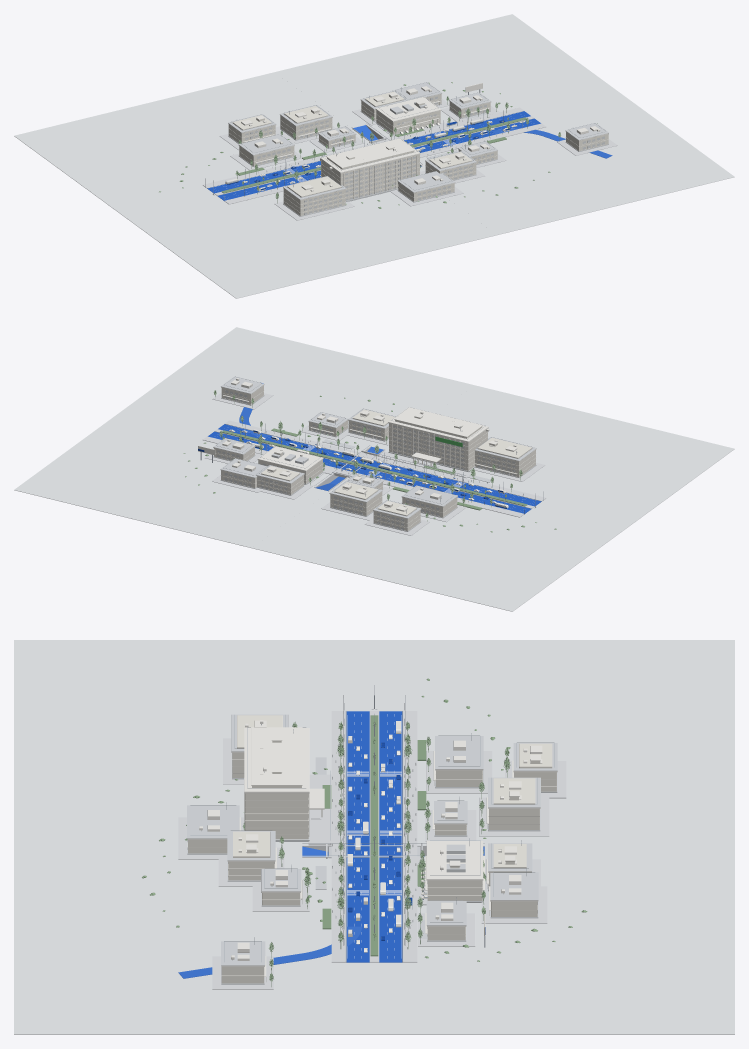
Rendered from awolowo_lowpoly_env.glb.
3 renders of one model, top to bottom at view 1: azimuth 30°, elevation 25°; view 2: azimuth 150°, elevation 25°; view 3: azimuth 270°, elevation 25°, orthographic. The views are drawn at different scales.
Visible parts, largest first — view 1: Ground_East, Ground_West, BOI_Mass, Pavement_South, Road_Carriageway_North, Road_Carriageway_South, BOI_Upper_Coping, Ground_South, Pavement_North, Sec_NE_K_Mass, Ground_North, NS_Parapet (+8 smaller); view 2: Ground_East, Ground_West, BOI_Mass, Road_Carriageway_North, Pavement_North, Road_Carriageway_South, Ground_South, BOI_Upper_Coping, Road_Median_Planting, Sec_NE_K_Mass, Pavement_South, NS_Parapet (+6 smaller); view 3: Ground_East, Ground_West, Road_Carriageway_South, Road_Carriageway_North, Pavement_South, Pavement_North, BOI_Upper_Coping, BOI_Mass, Ground_South, Ground_North, Road_Median_Planting, NS_Parapet (+27 smaller).
Part boxes in pixels (<box>): Ground_East: <box>14,72,496,298</box>; Ground_West: <box>289,14,734,231</box>; BOI_Mass: <box>321,154,419,199</box>; Pavement_South: <box>203,107,523,188</box>; Road_Carriageway_North: <box>217,118,540,200</box>; Road_Carriageway_South: <box>207,111,530,193</box>; BOI_Upper_Coping: <box>326,138,414,168</box>; Ground_South: <box>275,68,365,128</box>; Pavement_North: <box>225,123,545,204</box>; Sec_NE_K_Mass: <box>283,189,345,215</box>; Ground_North: <box>420,166,511,235</box>; NS_Parapet: <box>375,97,441,122</box>; Ground_East: <box>252,385,734,611</box>; Ground_West: <box>14,327,459,544</box>; BOI_Mass: <box>389,423,487,470</box>; Road_Carriageway_North: <box>218,424,541,506</box>; Pavement_North: <box>225,420,545,500</box>; Road_Carriageway_South: <box>208,431,531,513</box>; Ground_South: <box>237,488,328,548</box>; BOI_Upper_Coping: <box>394,407,482,437</box>; Road_Median_Planting: <box>222,430,527,506</box>; Sec_NE_K_Mass: <box>475,450,535,477</box>; Pavement_South: <box>203,436,523,517</box>; NS_Parapet: <box>257,446,323,471</box>; Ground_East: <box>14,640,734,845</box>; Ground_West: <box>14,857,734,1034</box>; Road_Carriageway_South: <box>379,711,402,962</box>; Road_Carriageway_North: <box>346,711,369,962</box>; Pavement_South: <box>402,711,417,962</box>; Pavement_North: <box>331,711,345,962</box>; BOI_Upper_Coping: <box>251,727,302,785</box>; BOI_Mass: <box>245,793,308,839</box>; Ground_South: <box>484,846,734,857</box>; Ground_North: <box>14,846,302,857</box>; Road_Median_Planting: <box>370,715,378,956</box>; NS_Parapet: <box>426,841,483,880</box>.
Size of the model in its own units: 440 by 37.7 by 340.
